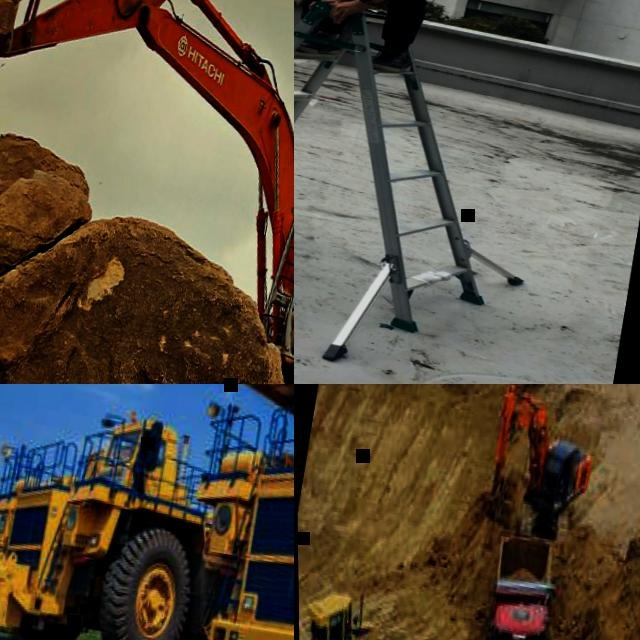Person: (294, 0, 487, 84), (280, 240, 294, 354)
machinery: (0, 0, 294, 384), (0, 386, 244, 640), (159, 384, 294, 640), (475, 384, 603, 543), (458, 524, 574, 640), (297, 583, 416, 640)
